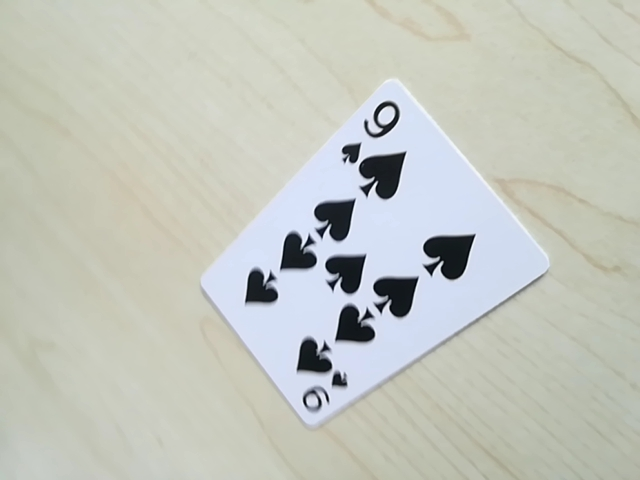ht 9: (343, 91, 407, 157), (294, 371, 353, 423)
